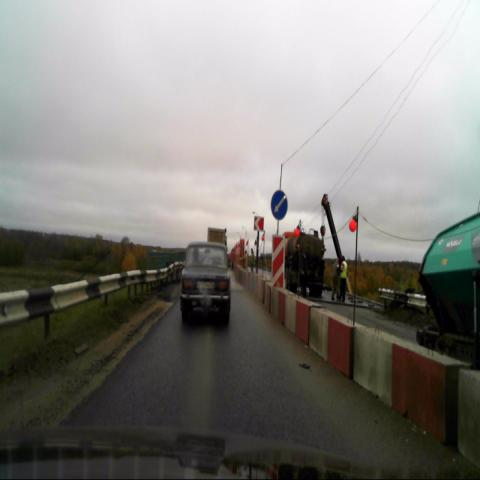4_2_2: (271, 190, 288, 222)
